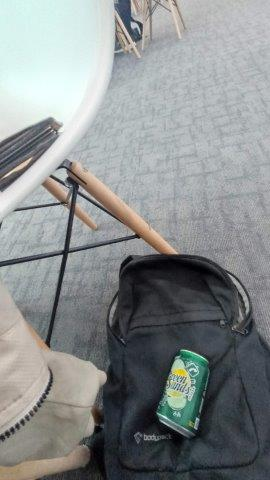kaleng: (155, 349, 210, 437)
